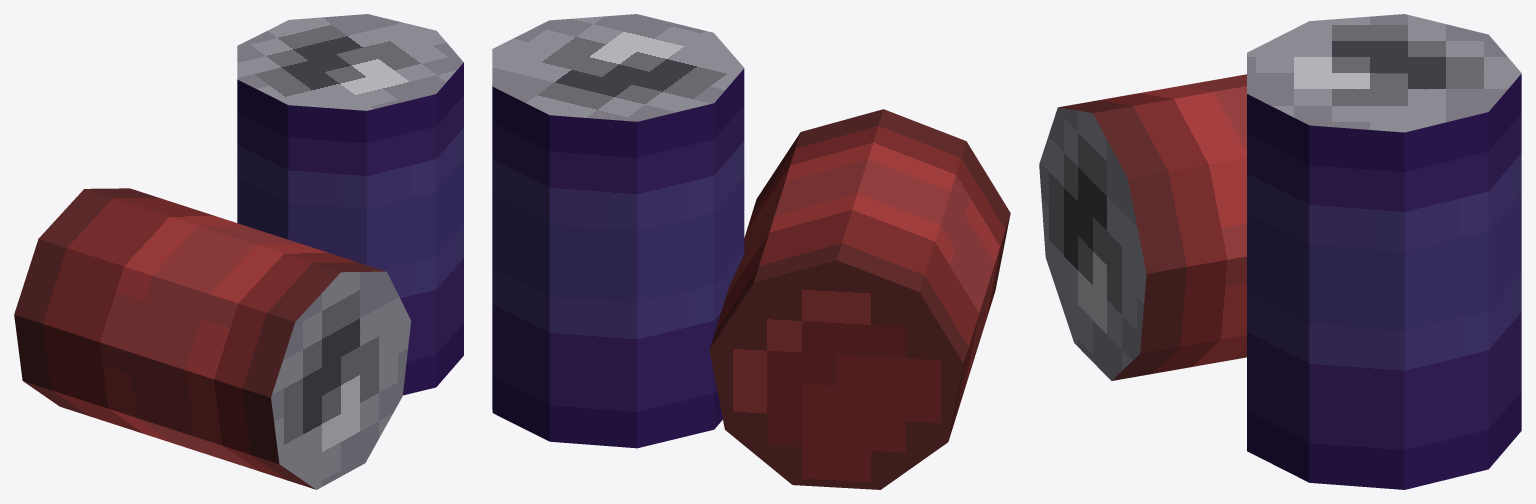
Rendered from pot.gltf.
3 renders of one model, left to right at view 1: azimuth 30°, elevation 25°; view 2: azimuth 150°, elevation 25°; view 3: azimuth 270°, elevation 25°, orthographic. The views are drawn at different scales.
Parts seen in each view (by area): view 1: cylinder (×2); view 2: cylinder (×2); view 3: cylinder (×2).
Boxes of the visible parts, x1=… form: cylinder (×2): x1=14, y1=14, x2=463, y2=489; cylinder (×2): x1=492, y1=14, x2=1010, y2=489; cylinder (×2): x1=1039, y1=14, x2=1521, y2=489.
Bounding box in the file's own units: 0.7074 × 0.4754 × 0.5737.
Materials: 1 (1 with a texture image).
